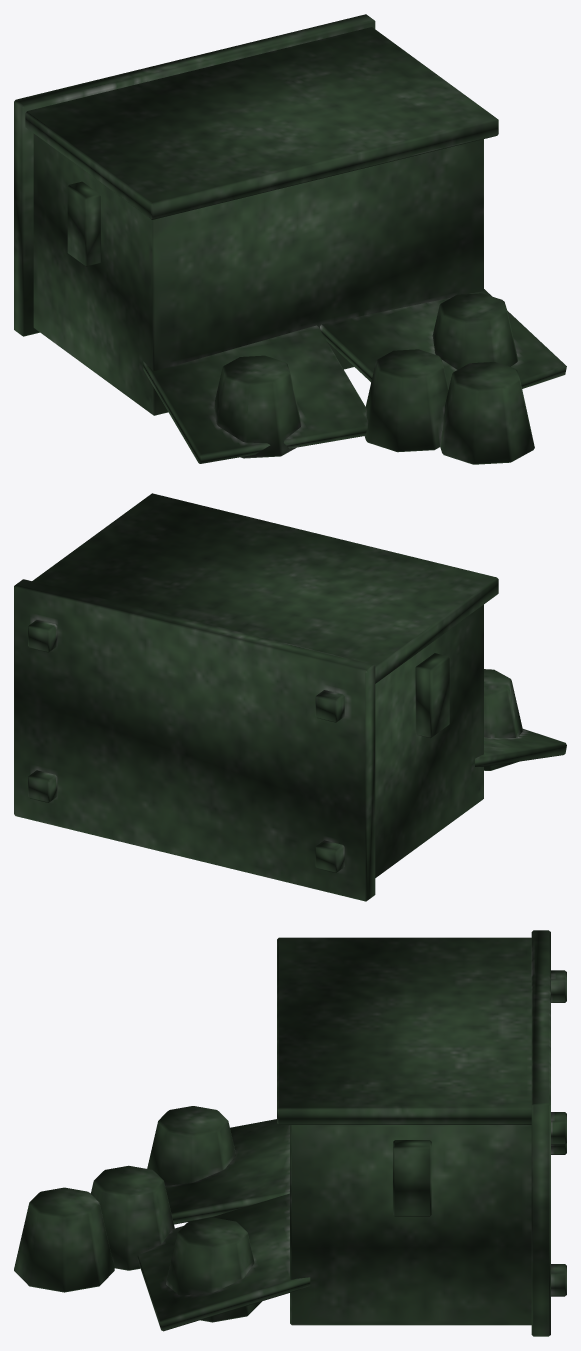
Rendered from Basura_Volcado.fbx.
3 views of the same model, one above another, from view 1: azimuth 30°, elevation 25°; view 2: azimuth 150°, elevation 25°; view 3: azimuth 270°, elevation 25° (orthographic).
Parts seen in each view (by area): view 1: Basura_Volcado; view 2: Basura_Volcado; view 3: Basura_Volcado.
Part boxes in pixels (bbox=[...]): Basura_Volcado: bbox=[14, 14, 566, 464]; Basura_Volcado: bbox=[14, 493, 566, 901]; Basura_Volcado: bbox=[14, 930, 566, 1336].
Bounding box in the file's own units: 6.65 × 4 × 8.58.
